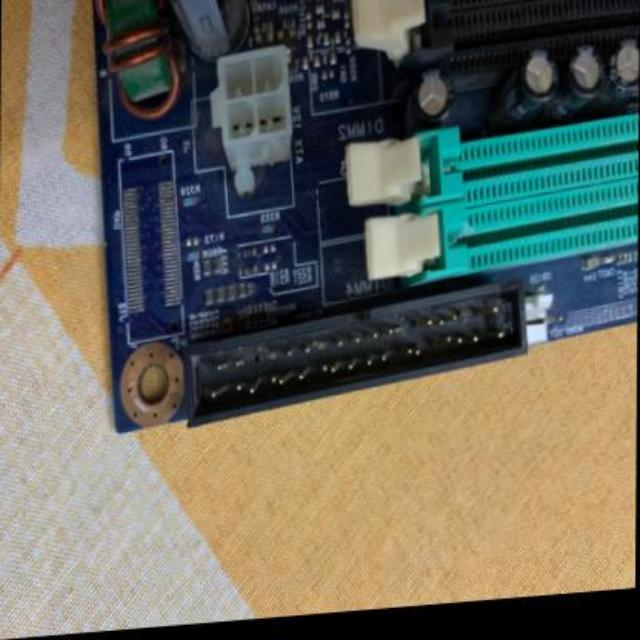PCB: (84, 1, 634, 442)
